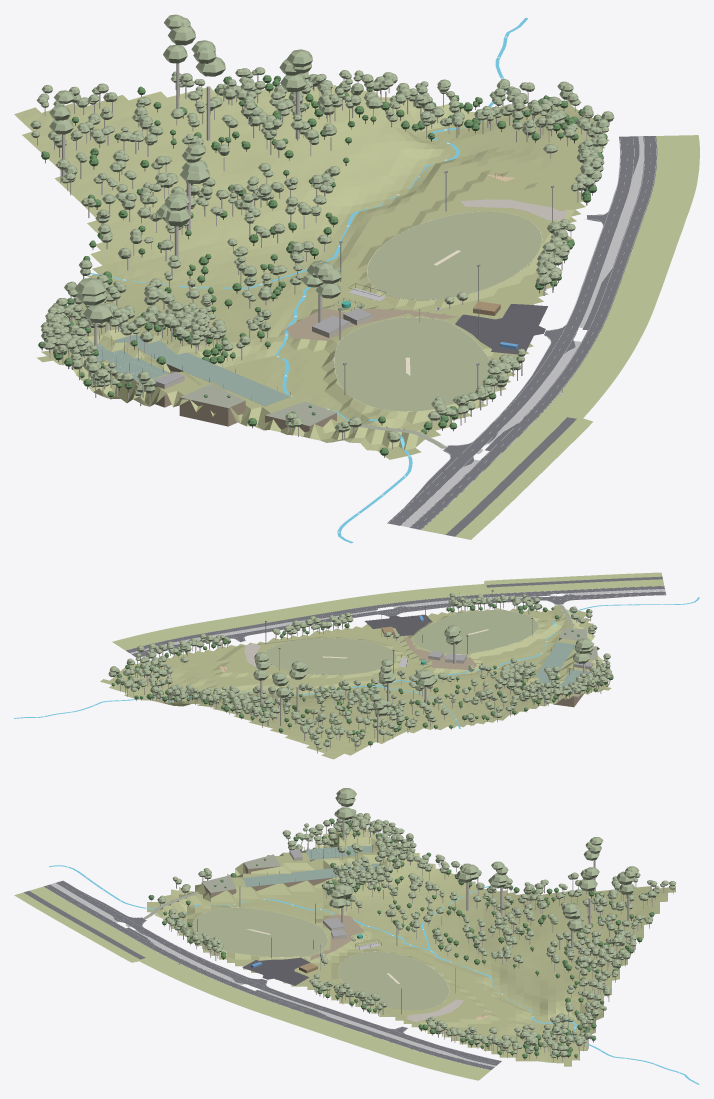
Rendered from KHFR_stage0_summer.glb.
3 views of the same model, one above another, from view 1: azimuth 30°, elevation 25°; view 2: azimuth 150°, elevation 25°; view 3: azimuth 270°, elevation 25° (orthographic). The views are drawn at different scales.
Parts seen in each view (by area): view 1: Reserve terrain, Bushland forest (euc_can), Road reserve (far verge), Bush planting zones (euc_can), Existing Ground 1 (worn turf), Existing Ground 2 (worn turf), Swansea Rd NE-bound (surveyed both edges), Giant eucalypts (canopies), Swansea Rd SW-bound (2 lanes, smooth), Tennis precinct bush retained (euc_can), Bushland forest (wat_can), Median (separated) (+16 smaller); view 2: Reserve terrain, Bushland forest (euc_can), Road reserve (far verge), Bush planting zones (euc_can), Existing Ground 1 (worn turf), Existing Ground 2 (worn turf), Giant eucalypts (canopies), Swansea Rd SW-bound (2 lanes, smooth), Tennis precinct bush retained (euc_can), Swansea Rd NE-bound (surveyed both edges), Bushland forest (wat_can), Median (separated) (+9 smaller); view 3: Reserve terrain, Bushland forest (euc_can), Road reserve (far verge), Bush planting zones (euc_can), Existing Ground 1 (worn turf), Existing Ground 2 (worn turf), Swansea Rd NE-bound (surveyed both edges), Tennis precinct bush retained (euc_can), Giant eucalypts (canopies), Swansea Rd SW-bound (2 lanes, smooth), Bushland forest (wat_can), Median (separated) (+11 smaller).
Boxes of the visible parts, bbox=[...] form: Reserve terrain: bbox=[14, 85, 609, 459]; Bushland forest (euc_can): bbox=[30, 71, 400, 442]; Road reserve (far verge): bbox=[421, 135, 699, 539]; Bush planting zones (euc_can): bbox=[216, 67, 614, 416]; Existing Ground 1 (worn turf): bbox=[334, 317, 490, 411]; Existing Ground 2 (worn turf): bbox=[367, 211, 541, 300]; Swansea Rd NE-bound (surveyed both edges): bbox=[387, 136, 639, 525]; Giant eucalypts (canopies): bbox=[49, 14, 312, 323]; Swansea Rd SW-bound (2 lanes, smooth): bbox=[409, 136, 657, 529]; Tennis precinct bush retained (euc_can): bbox=[40, 296, 233, 387]; Bushland forest (wat_can): bbox=[41, 83, 388, 455]; Median (separated): bbox=[400, 136, 644, 527]; Reserve terrain: bbox=[100, 605, 611, 759]; Bushland forest (euc_can): bbox=[198, 606, 611, 749]; Road reserve (far verge): bbox=[112, 572, 664, 650]; Bush planting zones (euc_can): bbox=[108, 593, 540, 716]; Existing Ground 1 (worn turf): bbox=[412, 610, 538, 653]; Existing Ground 2 (worn turf): bbox=[265, 638, 396, 674]; Giant eucalypts (canopies): bbox=[253, 638, 593, 715]; Swansea Rd SW-bound (2 lanes, smooth): bbox=[126, 586, 664, 652]; Tennis precinct bush retained (euc_can): bbox=[495, 661, 613, 703]; Swansea Rd NE-bound (surveyed both edges): bbox=[131, 591, 666, 657]; Bushland forest (wat_can): bbox=[230, 609, 603, 745]; Median (separated): bbox=[130, 589, 665, 653]; Reserve terrain: bbox=[147, 824, 675, 1066]; Bushland forest (euc_can): bbox=[157, 817, 676, 980]; Road reserve (far verge): bbox=[14, 886, 490, 1080]; Bush planting zones (euc_can): bbox=[166, 909, 637, 1057]; Existing Ground 1 (worn turf): bbox=[192, 907, 327, 957]; Existing Ground 2 (worn turf): bbox=[338, 952, 448, 1010]; Swansea Rd NE-bound (surveyed both edges): bbox=[56, 880, 501, 1065]; Tennis precinct bush retained (euc_can): bbox=[295, 809, 416, 888]; Giant eucalypts (canopies): bbox=[335, 788, 639, 931]; Swansea Rd SW-bound (2 lanes, smooth): bbox=[43, 884, 494, 1069]; Bushland forest (wat_can): bbox=[148, 820, 654, 979]; Median (separated): bbox=[50, 883, 495, 1066].
Bounding box in the file's own units: 495 × 86.35 × 599.
